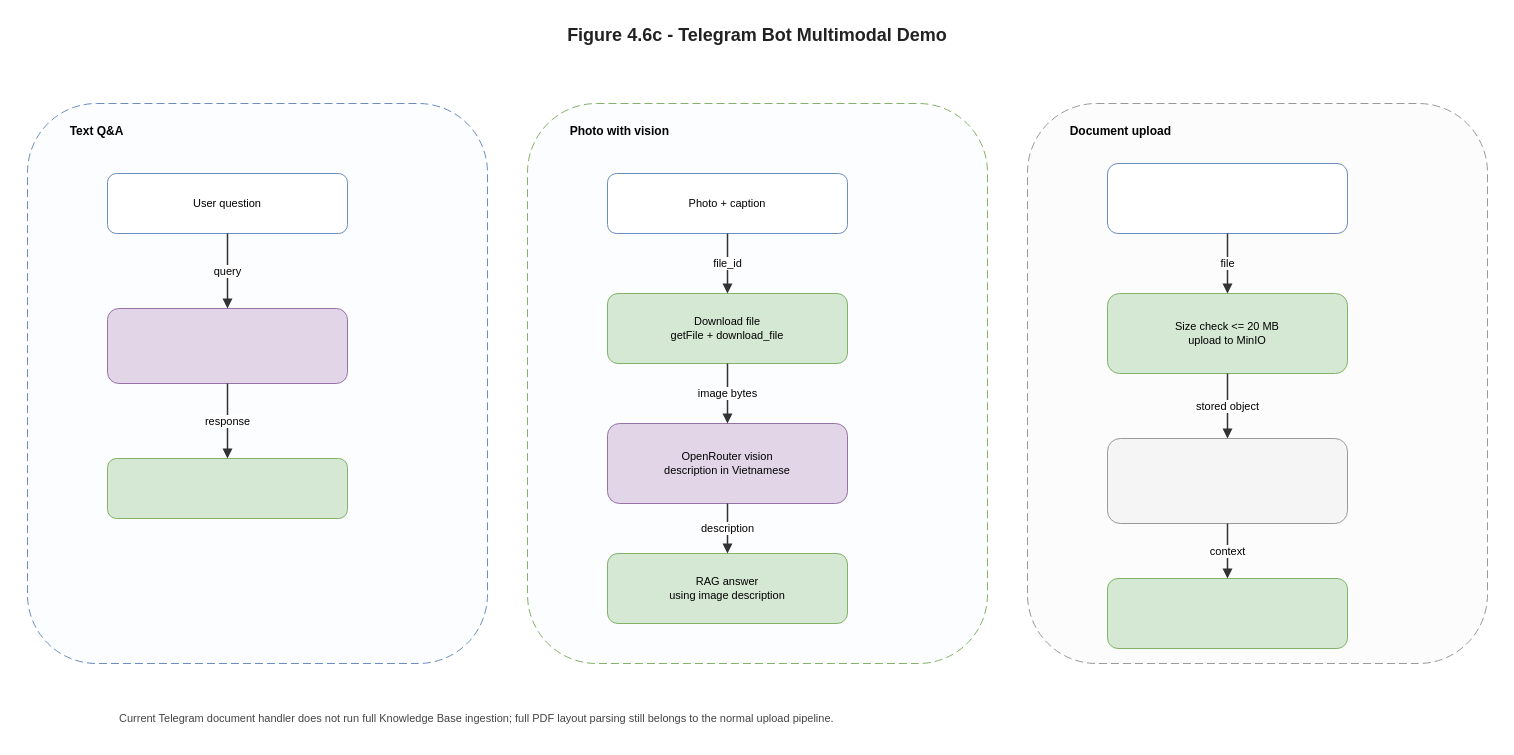
This 1514x755 diagram has some shape labels left out. The shapes that lost their labels are listed below. From the top down, each one's centre as x and y in pixels, then its label:
At point (1227, 198): "Document message PDF/DOCX/TXT/etc.".
At point (227, 346): "RAG chat session tg_{chat_id}".
At point (227, 488): "Answer with citations".
At point (1227, 481): "Text preview for text/* metadata for other files".
At point (1227, 613): "RAG prompt includes caption + file context".
